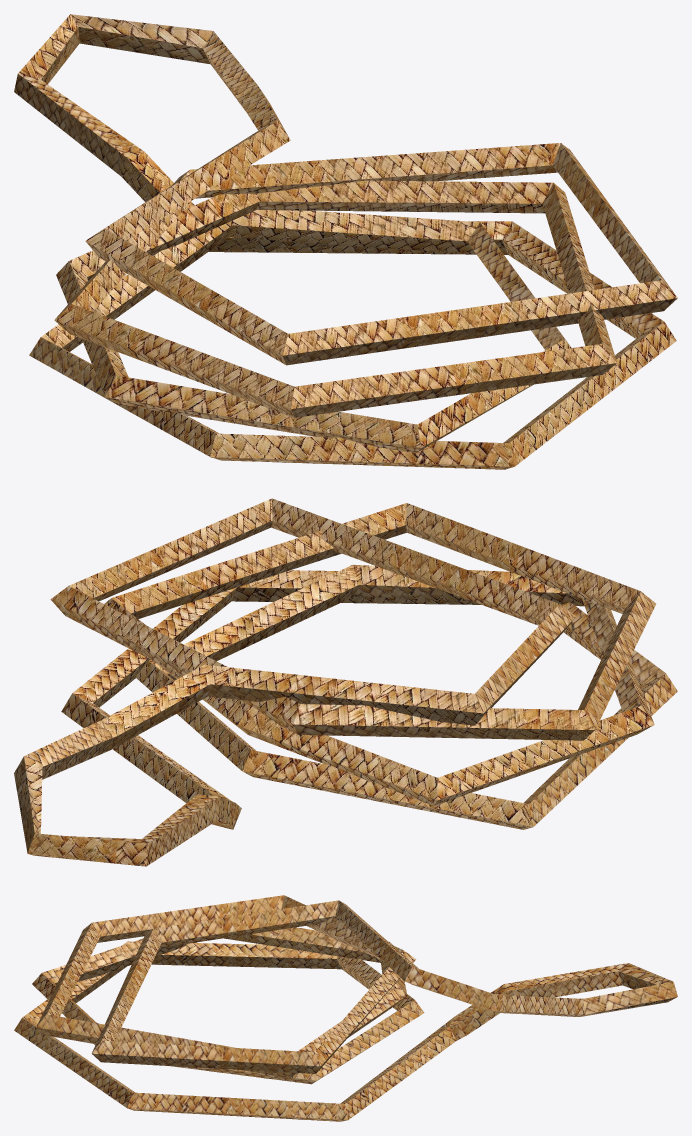
The model's file is IT_BOWSTRING.glb.
3 renders of one model, top to bottom at view 1: azimuth 30°, elevation 25°; view 2: azimuth 150°, elevation 25°; view 3: azimuth 270°, elevation 25°, orthographic. The views are drawn at different scales.
Parts seen in each view (by area): view 1: IT_BOWSTRING; view 2: IT_BOWSTRING; view 3: IT_BOWSTRING.
Part boxes in pixels (x1,y1,x2,y2): IT_BOWSTRING: (14, 14, 677, 469); IT_BOWSTRING: (14, 498, 677, 866); IT_BOWSTRING: (14, 895, 677, 1121).
Size of the model in its own units: 0.4551 by 0.112 by 0.7025.
1 material, 1 textured.
